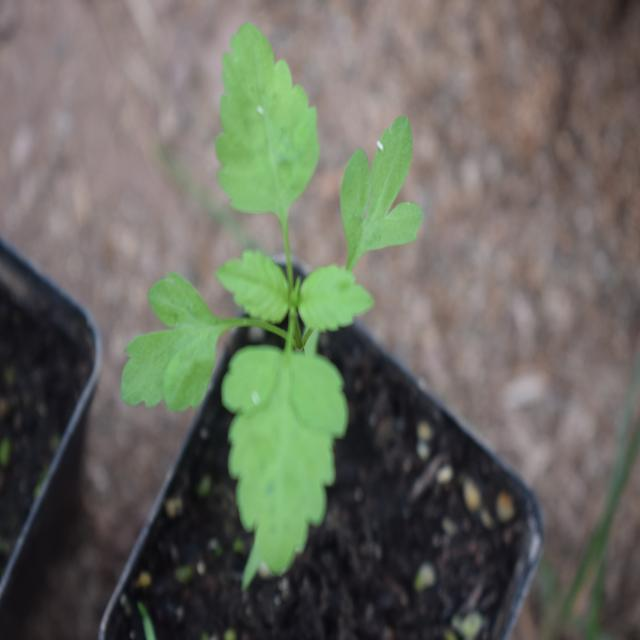Bidens pilosa: (112, 26, 423, 550)
